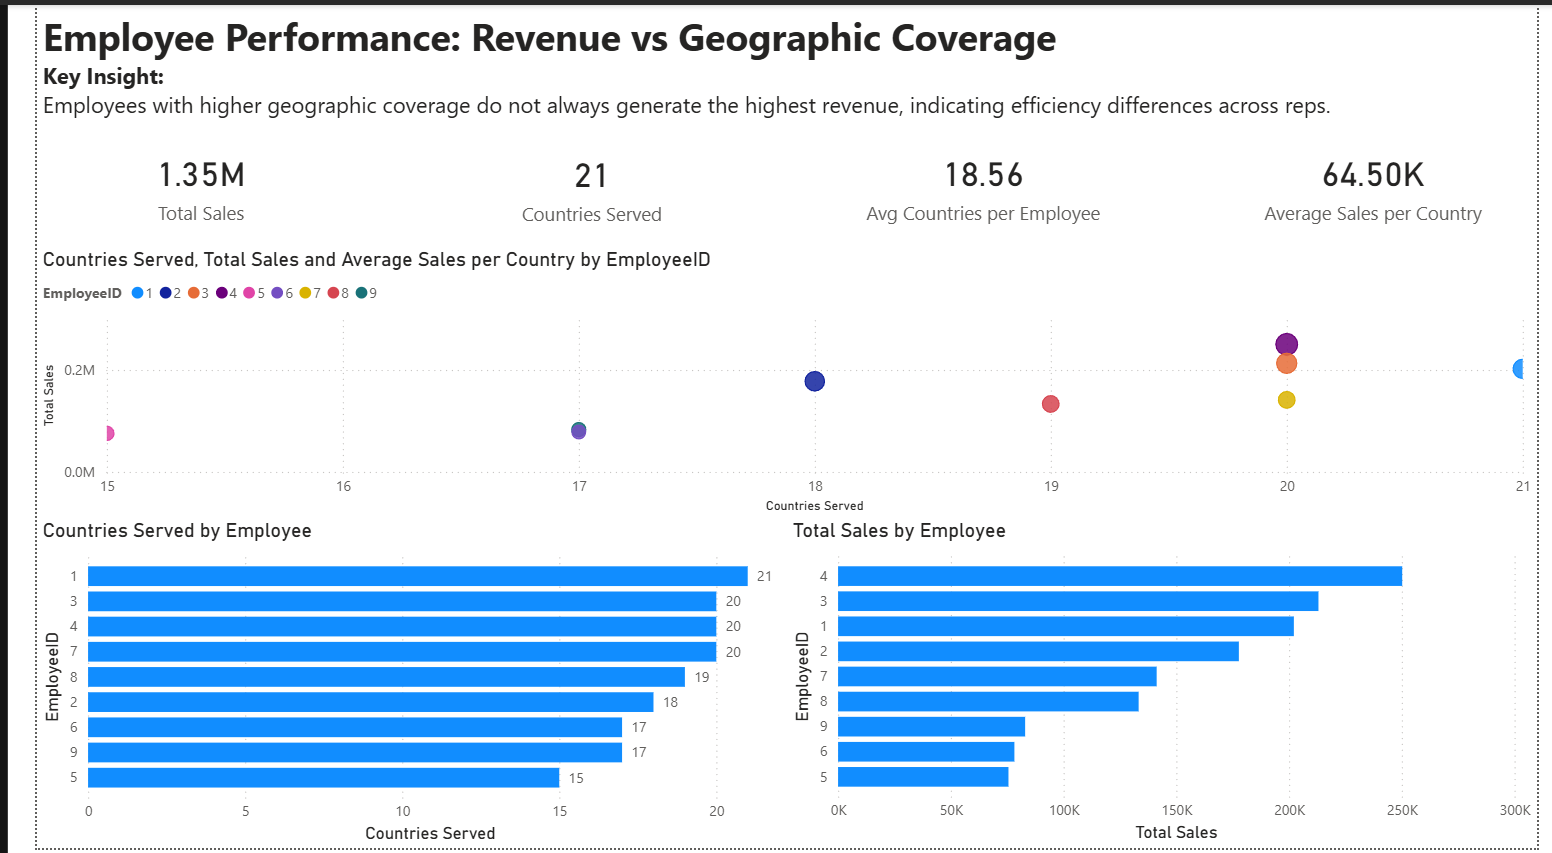

This screenshot's page, from the dashboard's own definition file:
{"tool":"powerbi","page":{"name":"Region by Country","canvas":[1280,720],"ordinal":1},"visuals":[{"type":"card","fields":{"Values":["customers.Order Total (SQL Logic)"]},"box":[0,113.1,280.6,80],"z":0},{"type":"card","fields":{"Values":["customers.Countries Served"]},"box":[334,114.4,280,80],"z":1000},{"type":"card","fields":{"Values":["customers.Avg Countries per Employee"]},"box":[667.4,113.3,280,80],"z":2000},{"type":"card","fields":{"Values":["customers.Opportunity Efficiency"]},"box":[1000.4,113.1,279.6,80],"z":3000},{"type":"scatterChart","fields":{"Size":["customers.Opportunity Efficiency"],"X":["customers.Countries Served"],"Series":["orders and amounts.orders.EmployeeID"],"Y":["customers.Order Total (SQL Logic)"]},"box":[0,207,1280.4,231.5],"z":4000},{"type":"clusteredBarChart","title":"Countries Served by Employee","fields":{"Category":["orders and amounts.EmployeeID"],"Y":["customers.Countries Served"]},"box":[0,438.4,640,281.4],"z":5000},{"type":"clusteredBarChart","title":"Total Sales by Employee","fields":{"Category":["orders and amounts.EmployeeID"],"Y":["customers.Order Total (SQL Logic)"]},"box":[640.2,438.5,640.2,280.6],"z":6000},{"type":"textbox","box":[77.9,0,1117.1,113.1],"z":7000}]}

Visuals, with their boxes in screenshot pixels (x1, y1, x2, y2), scaled from the page's 1280x720 canvas onto the 1552x853 screenshot:
card - customers.Order Total (SQL Logic): 0 134 340 229
card - customers.Countries Served: 405 136 744 230
card - customers.Avg Countries per Employee: 809 134 1149 229
card - customers.Opportunity Efficiency: 1213 134 1551 229
scatterChart - customers.Opportunity Efficiency x customers.Countries Served: 0 245 1551 520
"Countries Served by Employee" clusteredBarChart: 0 519 776 852
"Total Sales by Employee" clusteredBarChart: 776 520 1551 852
textbox: 94 0 1449 134
